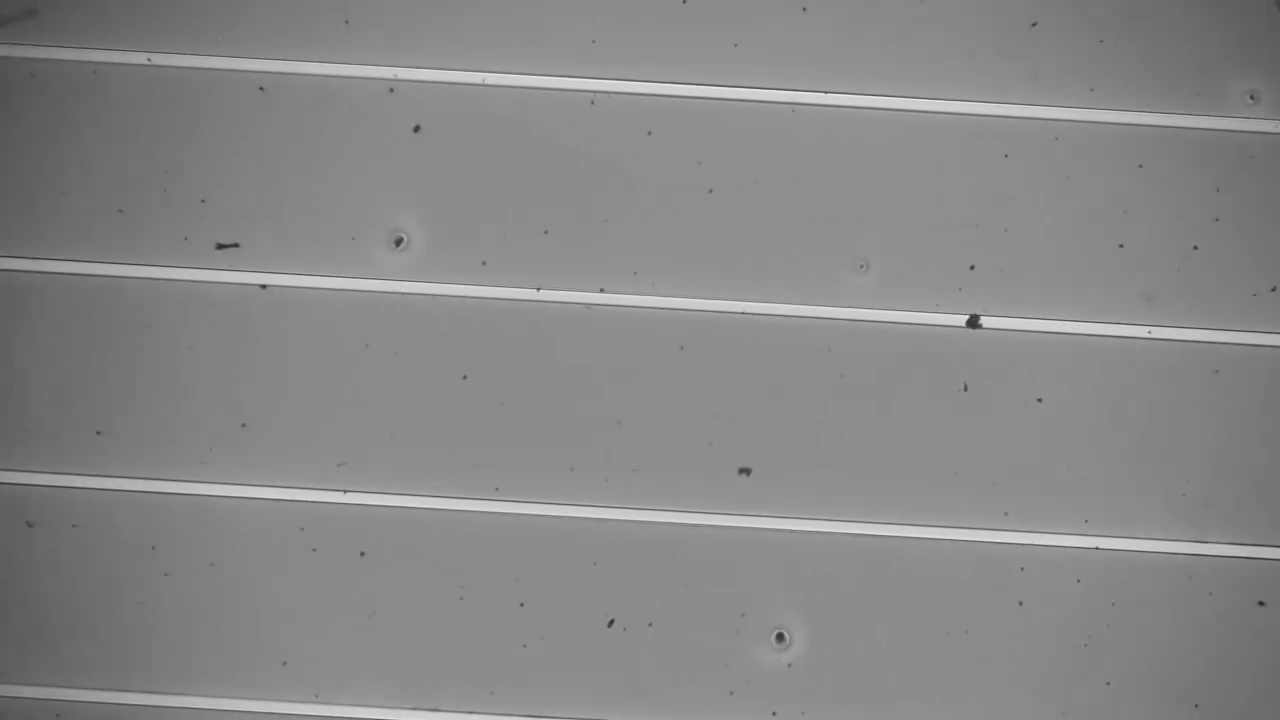stains_enbedded: (964, 303, 990, 340)
